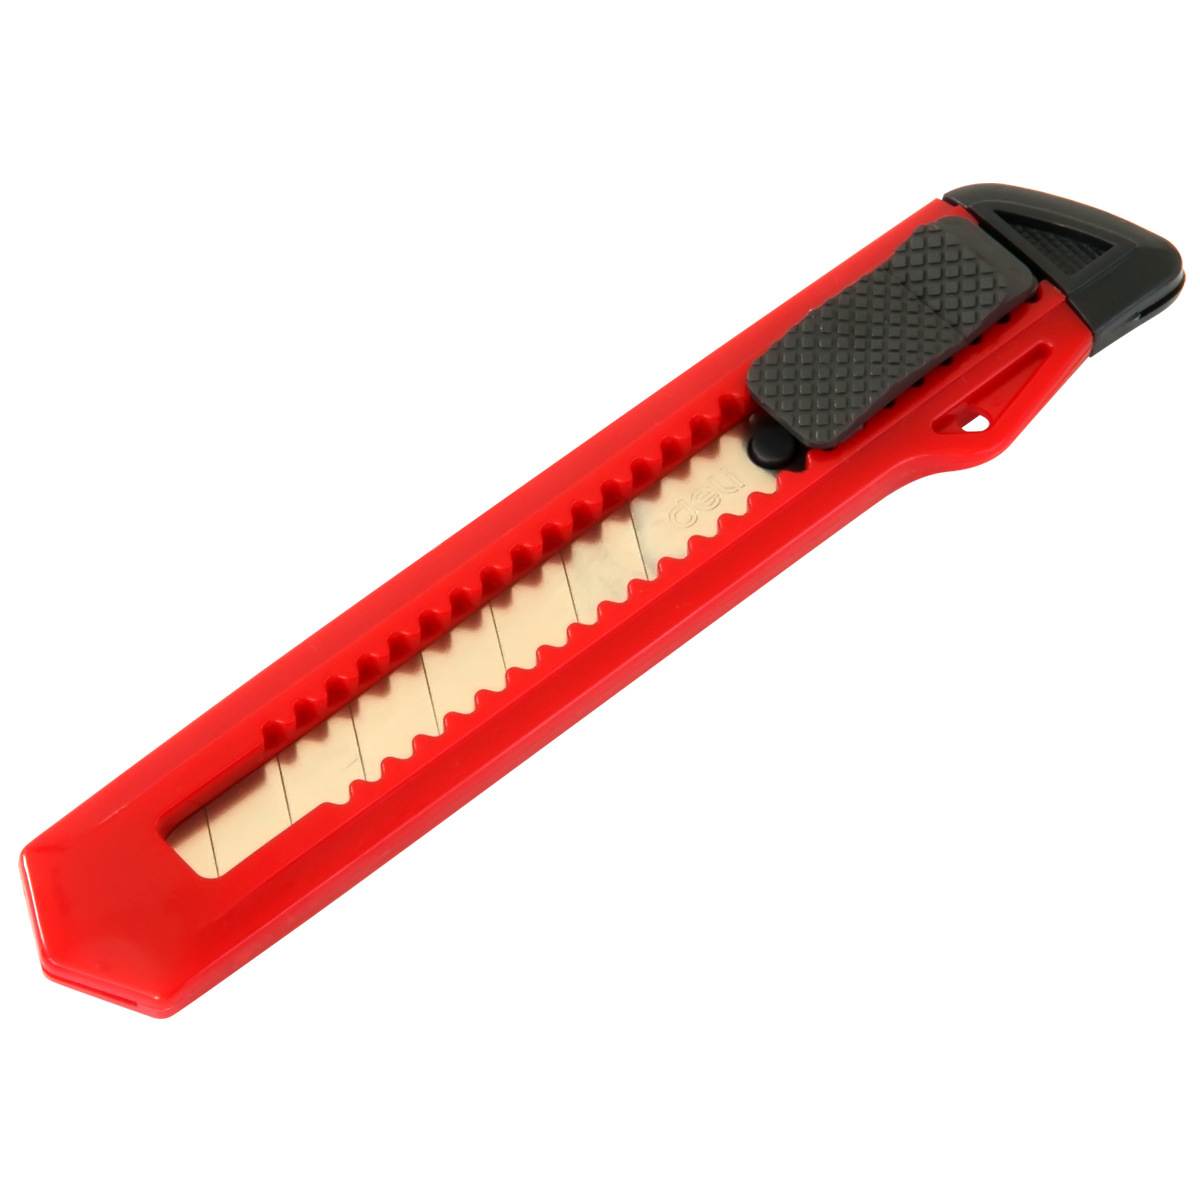cutter: (21, 182, 1195, 1021)
